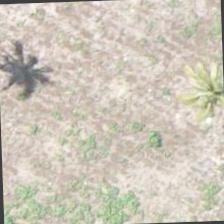Kelapa_Sawit: (164, 38, 223, 131)
